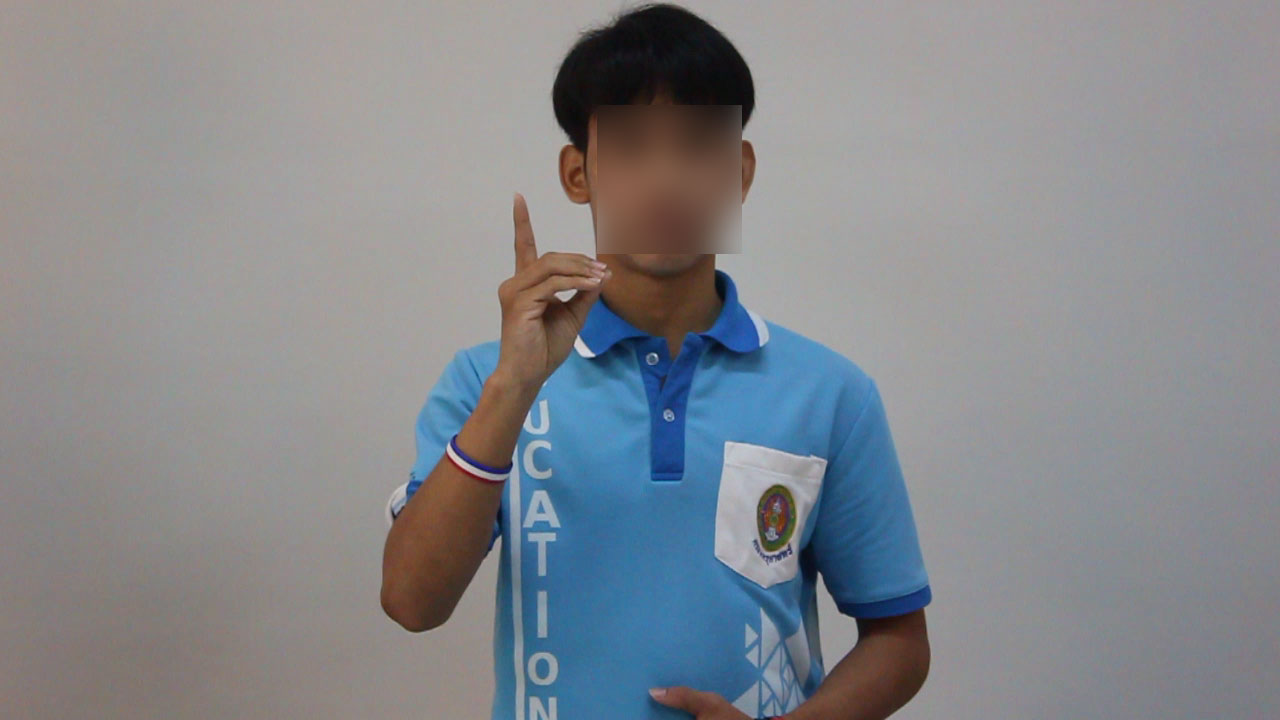dor: (483, 185, 617, 380)
